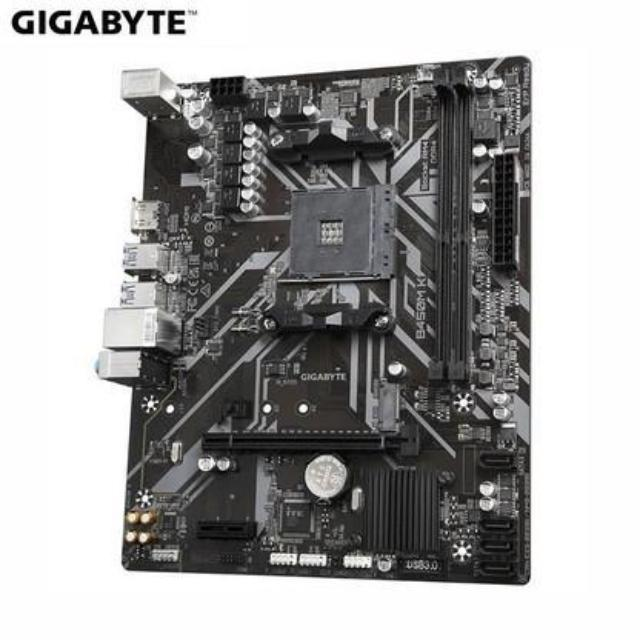Mainboard: (91, 54, 551, 598)
